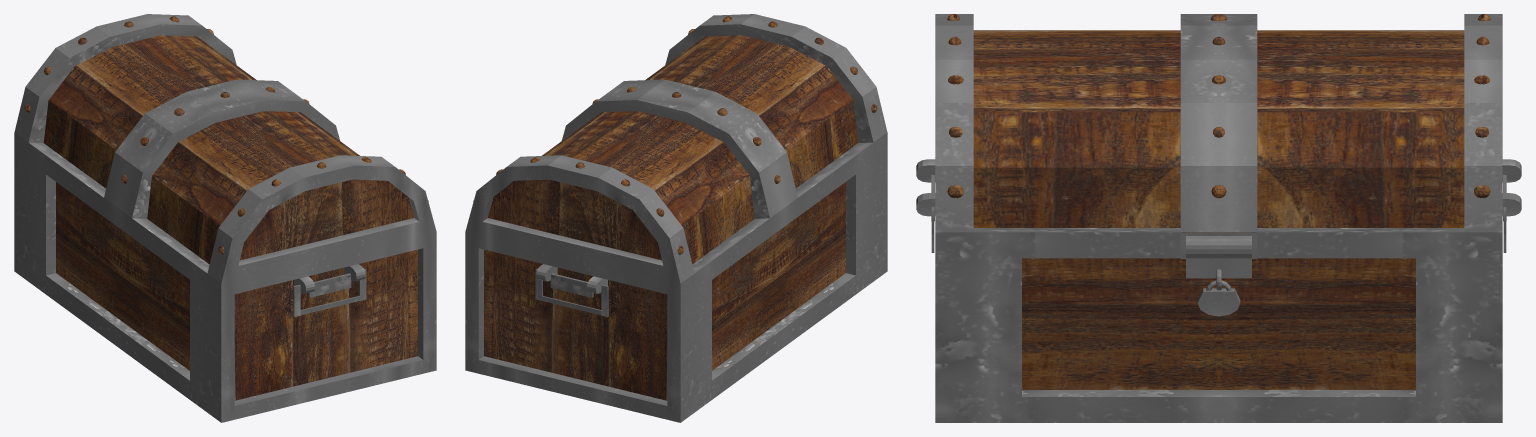
3 views of the same model, side by side, from view 1: azimuth 30°, elevation 25°; view 2: azimuth 150°, elevation 25°; view 3: azimuth 270°, elevation 25° (orthographic). The views are drawn at different scales.
Parts seen in each view (by area): view 1: Cube; view 2: Cube; view 3: Cube.
Boxes of the visible parts, box(x1,y1,x2,y2) form: Cube: box(14, 14, 436, 422); Cube: box(465, 14, 887, 422); Cube: box(916, 14, 1521, 422).
Size of the model in its own units: 0.9321 by 0.9069 by 1.59.
Materials: 2 (2 with a texture image).
